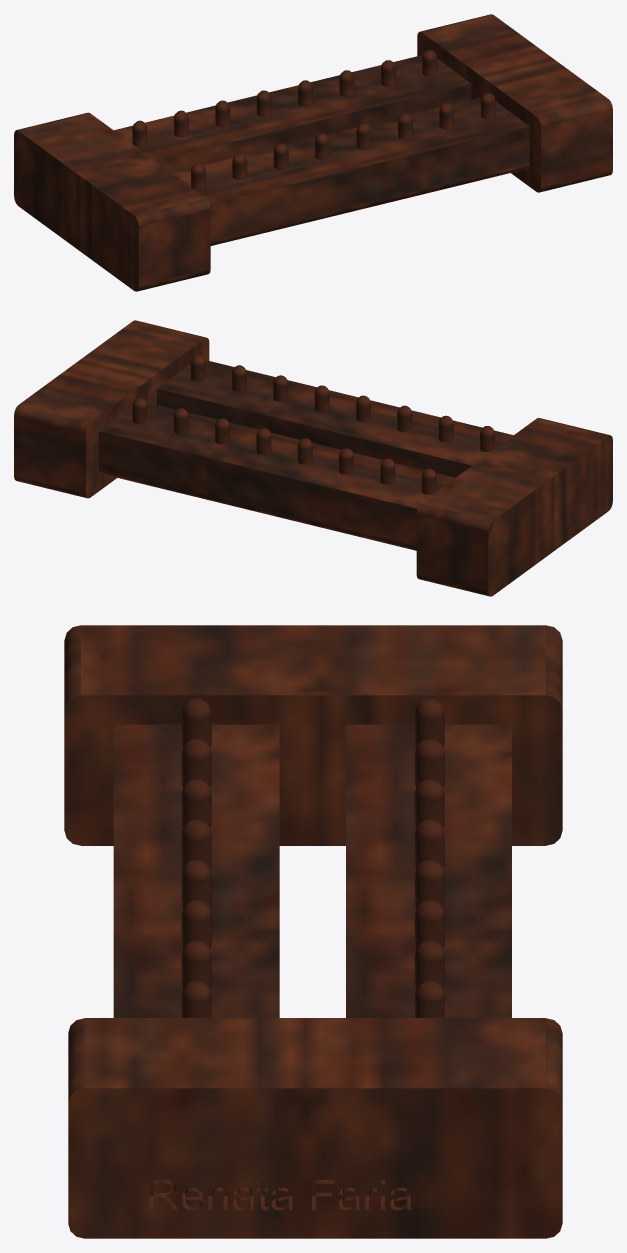
File: baseWWDC.dae
3 renders of one model, top to bottom at view 1: azimuth 30°, elevation 25°; view 2: azimuth 150°, elevation 25°; view 3: azimuth 270°, elevation 25°, orthographic. The views are drawn at different scales.
Parts seen in each view (by area): view 1: base; view 2: base; view 3: base.
Part boxes in pixels (x1=…): base: x1=14, y1=14, x2=612, y2=291; base: x1=14, y1=320, x2=612, y2=596; base: x1=64, y1=625, x2=562, y2=1238.
Bounding box in the file's own units: 33 × 5.53 × 15.
Materials: 1 (1 with a texture image).
